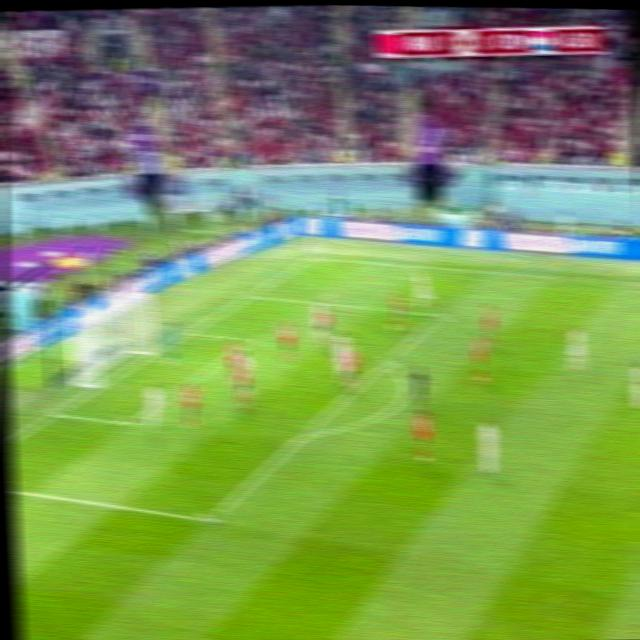bigarea_bottom_inner: (197, 505, 222, 532)
bigarea_top_inner: (428, 303, 451, 325)
bigarea_top_outter: (239, 286, 260, 303)
bottom_arc_area_intersection: (294, 421, 316, 445)
corner: (303, 250, 324, 264)
smallarea_bottom_inner: (118, 409, 141, 434)
smallarea_bottom_outter: (44, 403, 66, 423)
smallarea_top_inner: (241, 329, 263, 349)
smallarea_top_outter: (178, 321, 200, 340)
top_arc_area_intersection: (374, 352, 396, 373)
